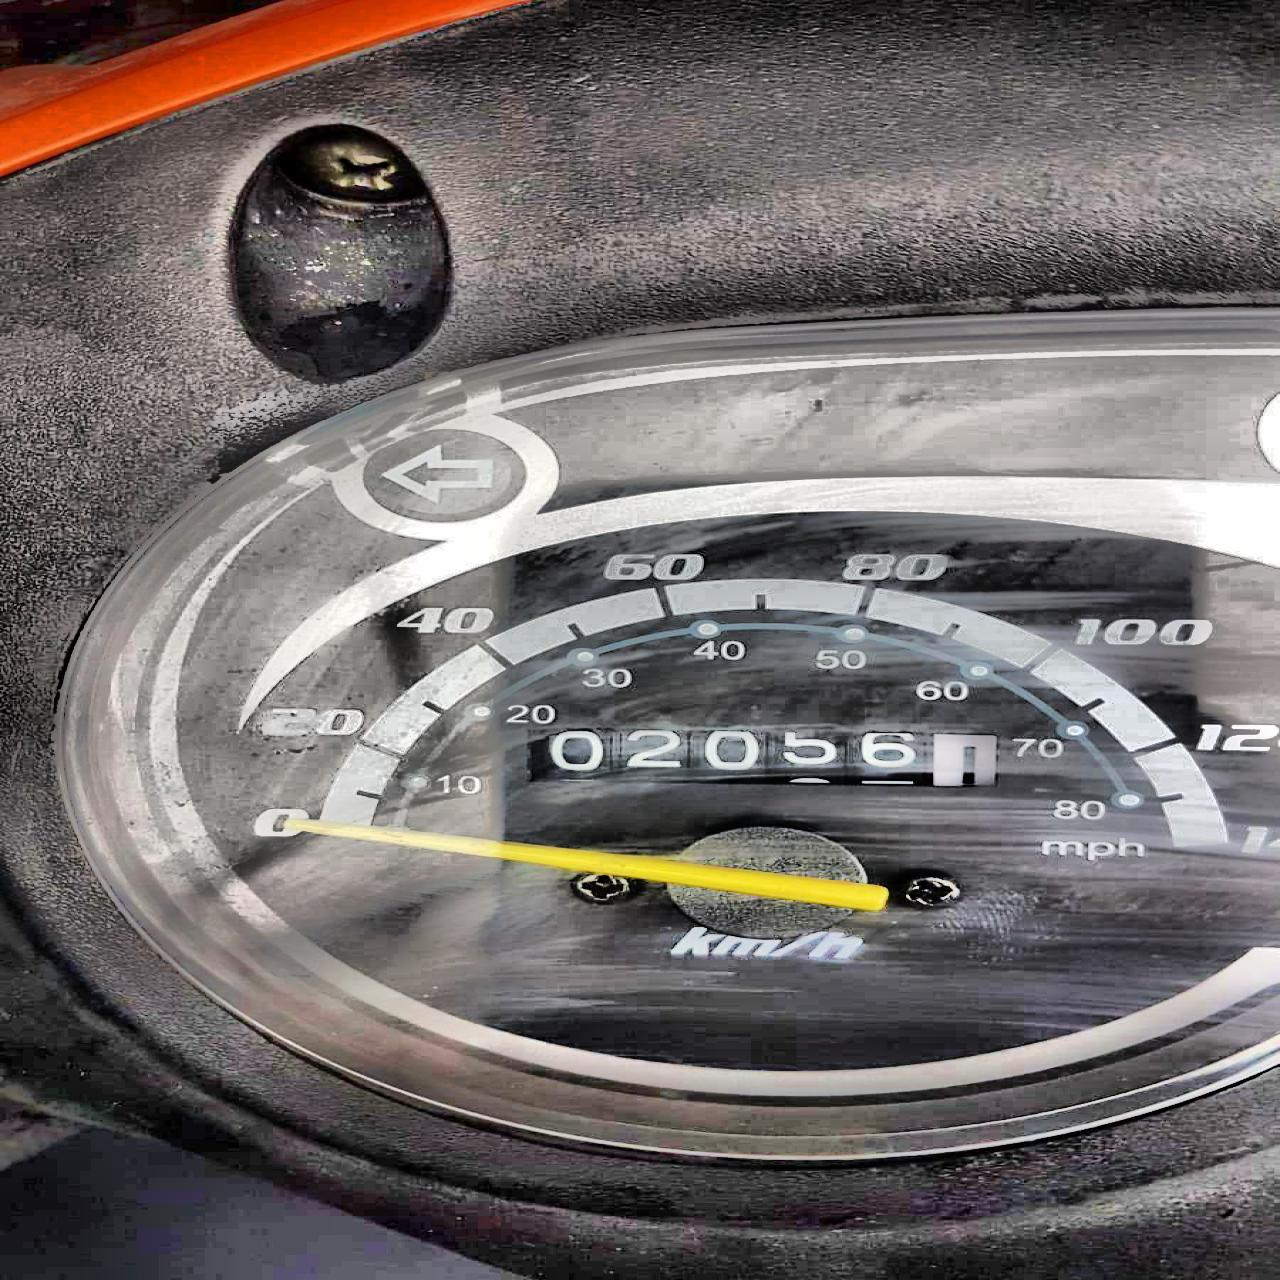0: (545, 726, 605, 774), (703, 728, 762, 770)
1: (954, 737, 994, 790)
2: (625, 727, 688, 769)
5: (778, 728, 846, 767)
6: (857, 727, 926, 769)
odometer: (510, 719, 1016, 797)
